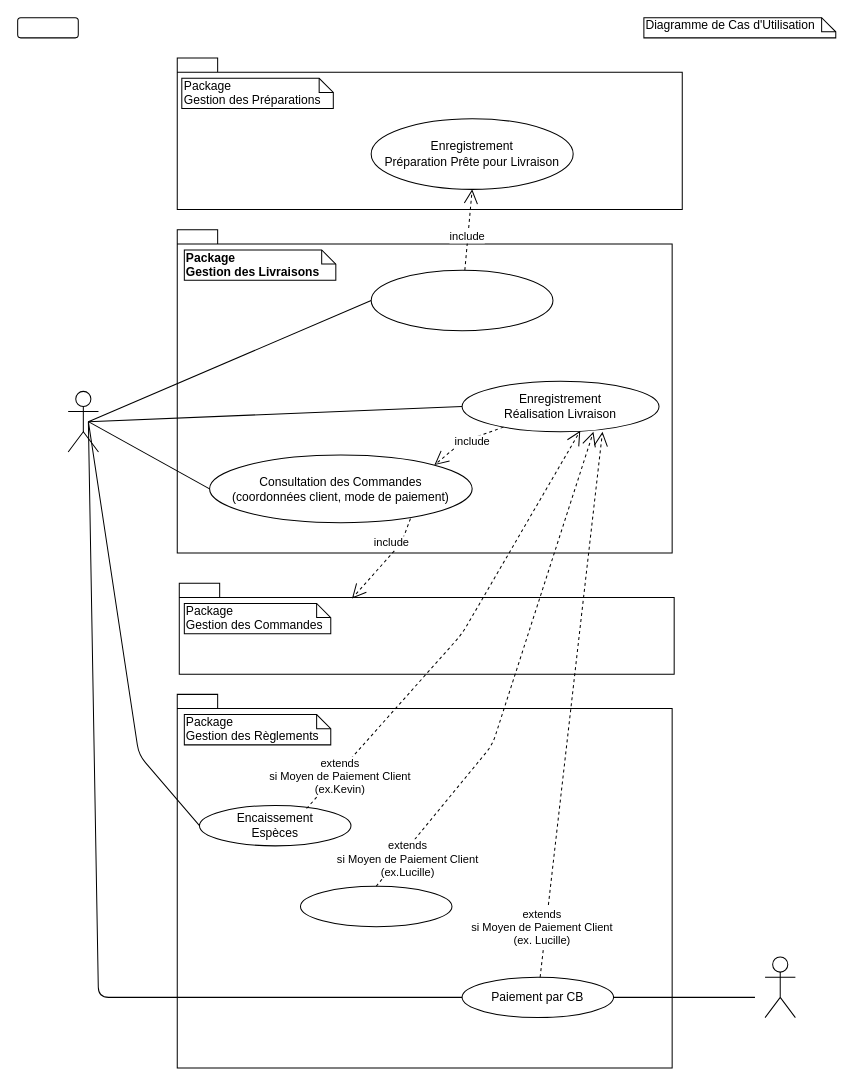
This 853x1086 diagram has some shape labels left out. Here are the shapes that lost their labels. From the top down, the centre of each, then its label:
At (x=47, y=27): "OC'Pizza".
At (x=461, y=300): "Consultation des Préparations".
At (x=82, y=421): "Livreur".
At (x=375, y=906): "Paiement par Chèque".
At (x=779, y=987): "<<système>> Banque".
